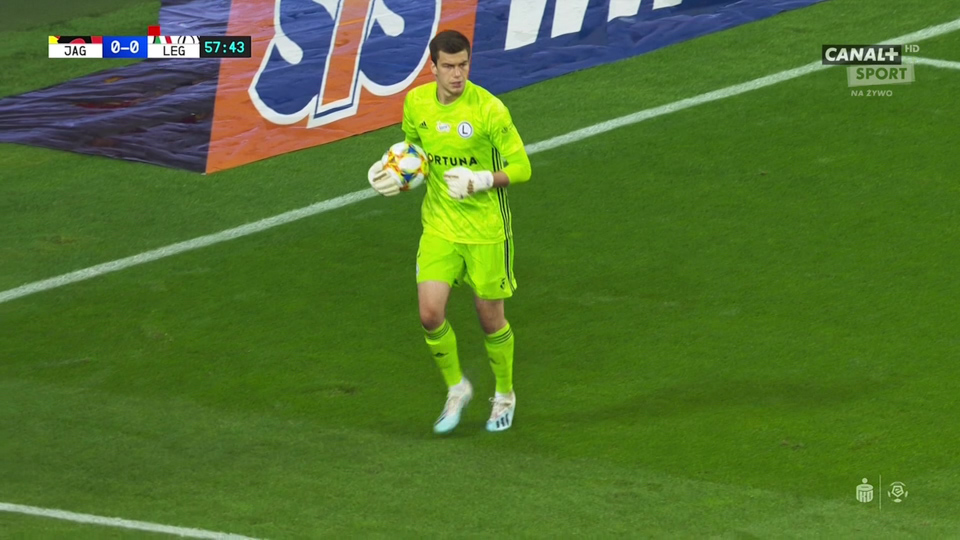Adidas: (418, 120, 429, 130)
